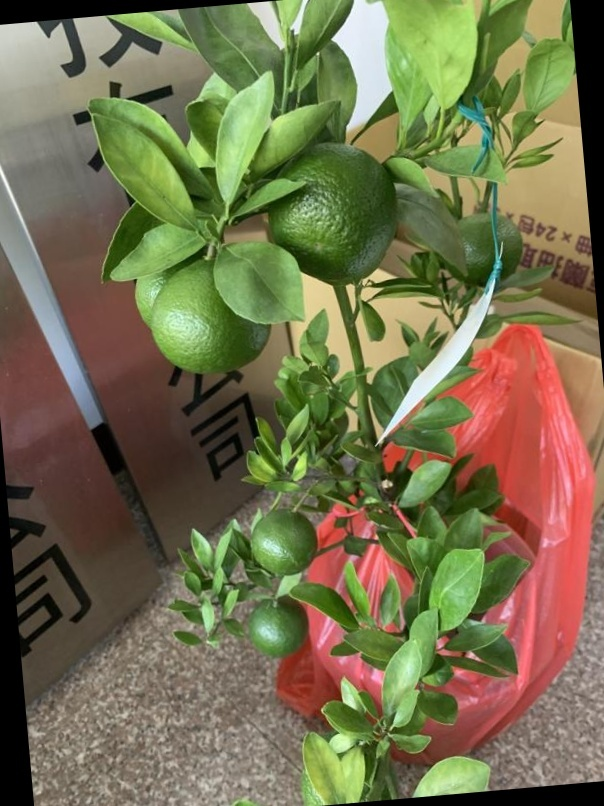Tangerine: (267, 143, 397, 288), (147, 262, 271, 375), (251, 503, 318, 573), (247, 592, 309, 660)
